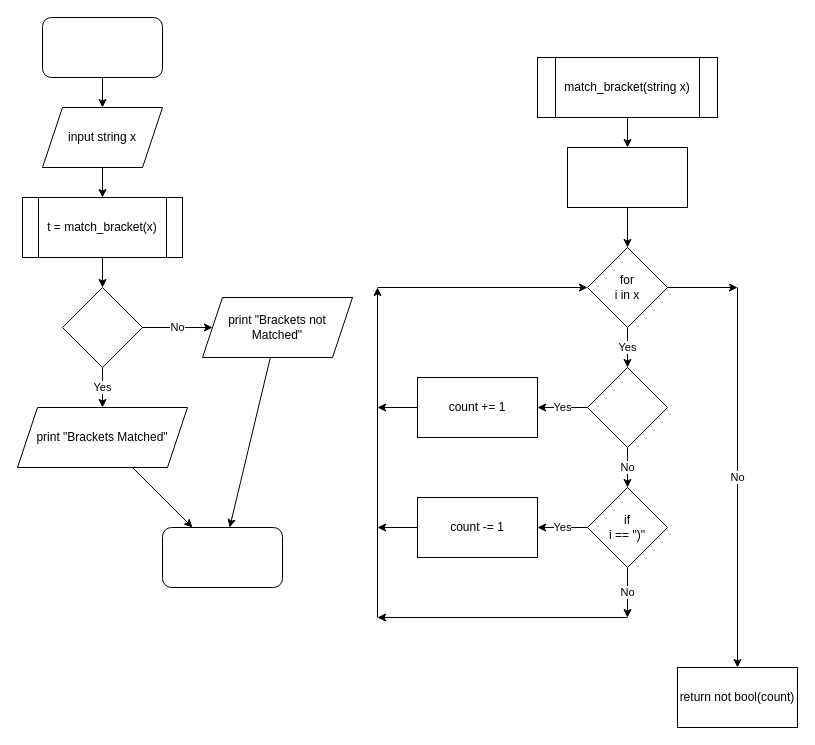
Image size: 815x745. Some labels were removed from this diagram. Each missing label, with the centre of its shape:
count = 0: pixel 627 177
if i == "(": pixel 627 407
if t: pixel 102 327
Start: pixel 102 47
Stop: pixel 222 557
